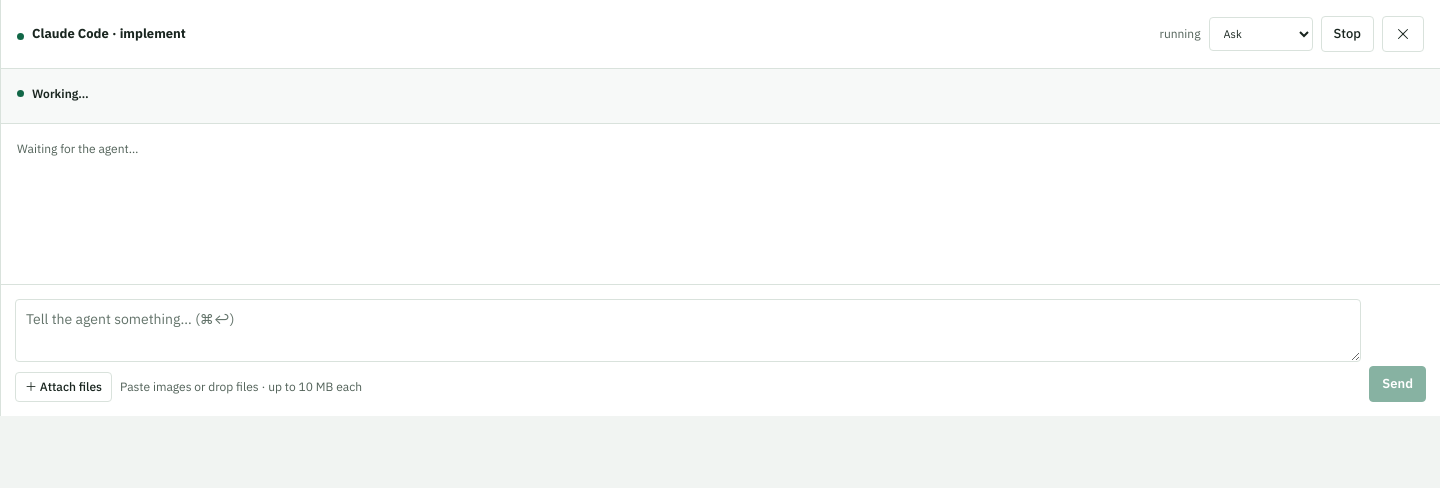
Test: keeps an unsent message when sending fails
Type "Please check the tests" into the text box with placeholder "Tell the agent something… (⌘↩)" at (688, 330), box [15, 299, 1361, 362]
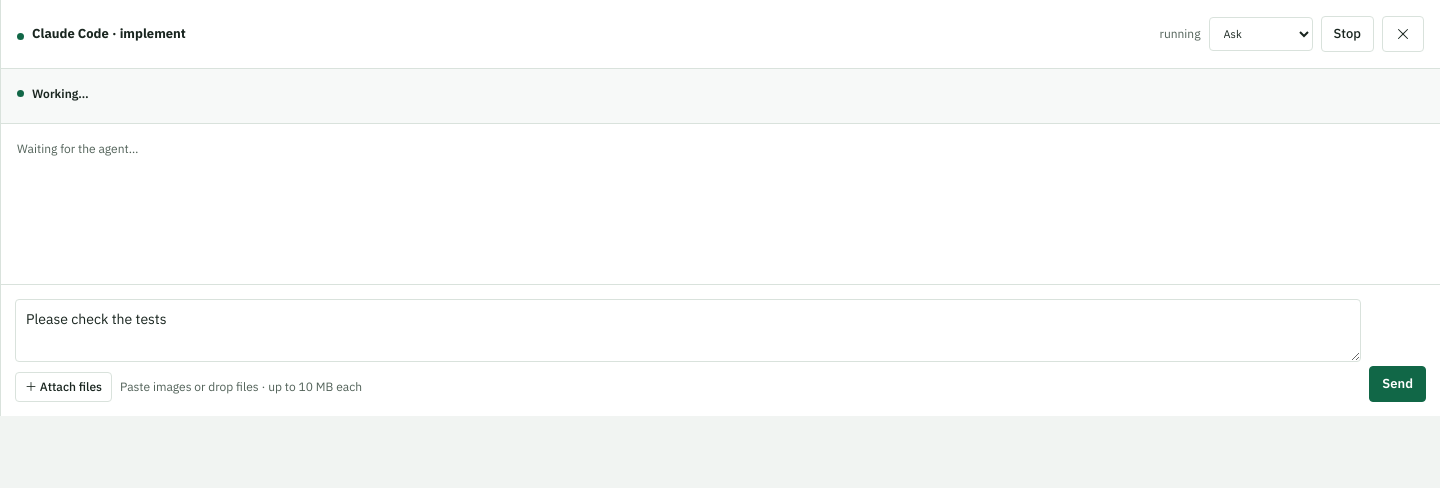
Click the button "Send" at (1398, 384), box [1369, 366, 1426, 402]
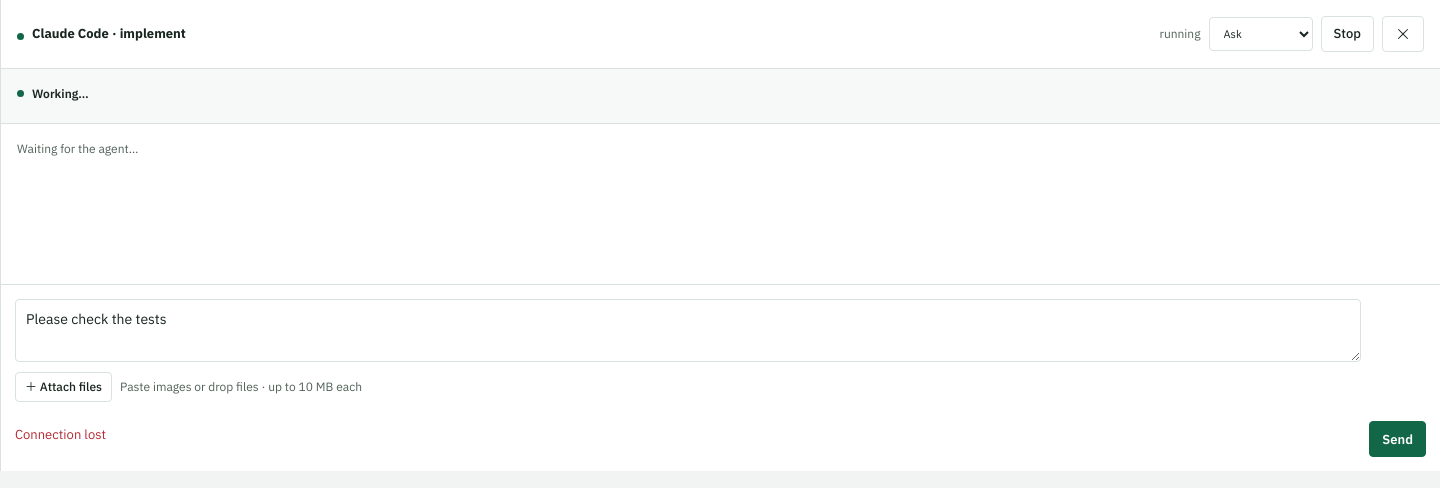
Expected: the text "Connection lost" is shown, [15, 426, 106, 443]
